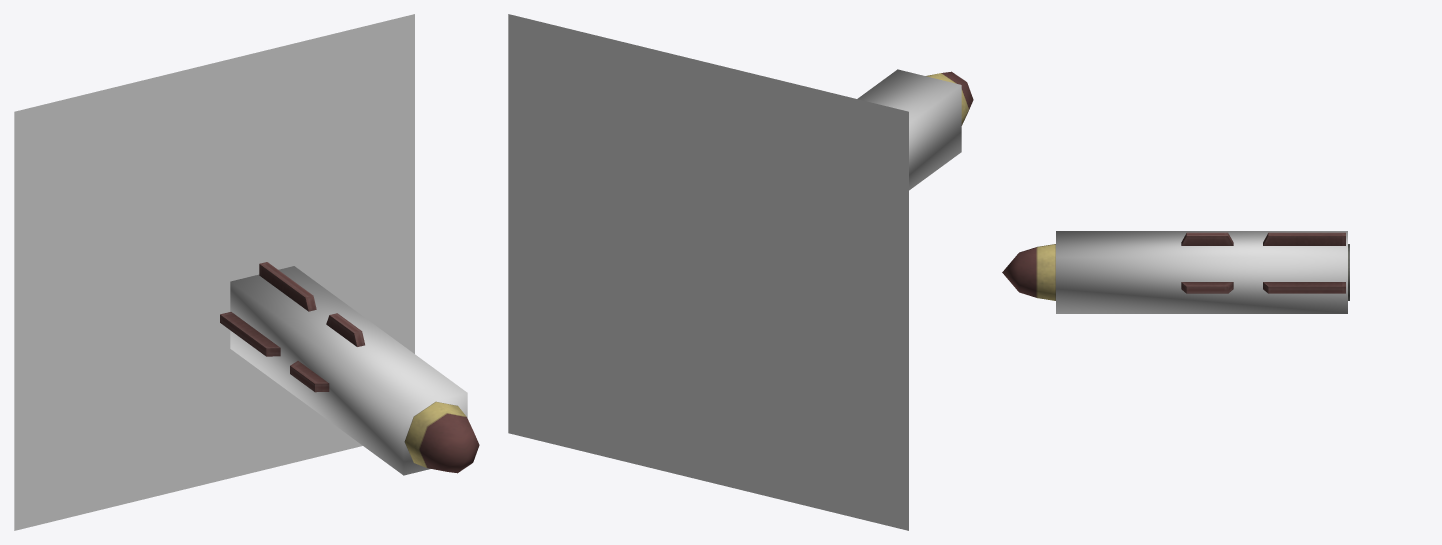
The model's file is hur_smallmissile.dae.
3 views of the same model, side by side, from view 1: azimuth 30°, elevation 25°; view 2: azimuth 150°, elevation 25°; view 3: azimuth 270°, elevation 25° (orthographic). The views are drawn at different scales.
Visible parts, largest first — view 1: ETSH[EngineShape1], COL[Root], MULT[Hull]_LOD[0]; view 2: ETSH[EngineShape1], COL[Root], MULT[Hull]_LOD[0]; view 3: COL[Root], MULT[Hull]_LOD[0].
Part boxes in pixels (left/top/right/bottom): ETSH[EngineShape1]: left=14, top=14, right=414, bottom=530; COL[Root]: left=230, top=266, right=467, bottom=475; MULT[Hull]_LOD[0]: left=220, top=262, right=479, bottom=473; ETSH[EngineShape1]: left=508, top=14, right=908, bottom=530; COL[Root]: left=857, top=69, right=961, bottom=190; MULT[Hull]_LOD[0]: left=926, top=71, right=973, bottom=125; COL[Root]: left=1056, top=231, right=1347, bottom=313; MULT[Hull]_LOD[0]: left=1002, top=232, right=1349, bottom=300.
Size of the model in its own units: 1 by 1.09 by 1.
1 material, 1 textured.
